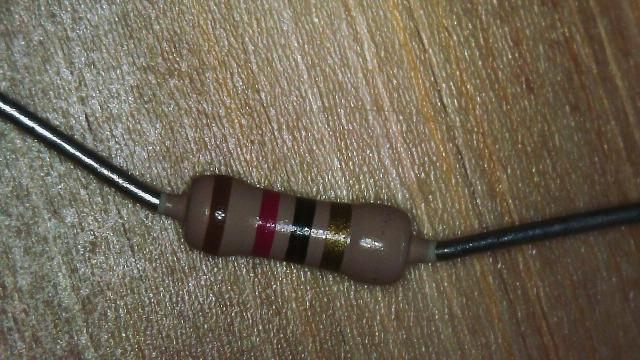black: (292, 194, 314, 268)
brown: (209, 170, 230, 260)
gold: (323, 202, 351, 272)
red: (258, 186, 277, 264)
resistor: (150, 163, 442, 301)
